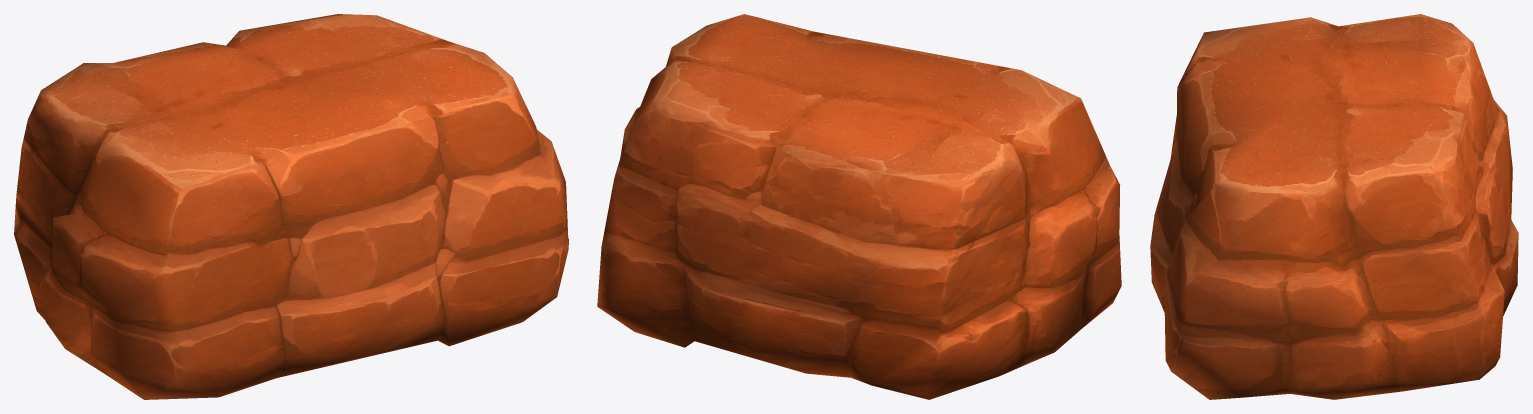
The model's file is Meshy_AI_Orange_Stone_Stack_0512182051_texture.fbx.
3 renders of one model, left to right at view 1: azimuth 30°, elevation 25°; view 2: azimuth 150°, elevation 25°; view 3: azimuth 270°, elevation 25°, orthographic. The views are drawn at different scales.
Visible parts, largest first — view 1: Mesh_0; view 2: Mesh_0; view 3: Mesh_0.
Boxes of the visible parts, left/top/right/bottom form: Mesh_0: left=14, top=14, right=568, bottom=399; Mesh_0: left=597, top=14, right=1121, bottom=399; Mesh_0: left=1150, top=14, right=1518, bottom=399.
Size of the model in its own units: 190 by 88.68 by 139.
Materials: 1 (1 with a texture image).
